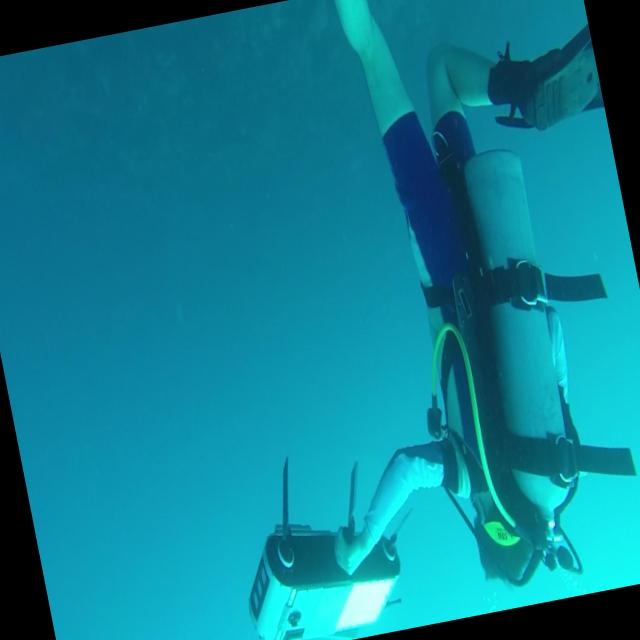human: (228, 0, 640, 623)
